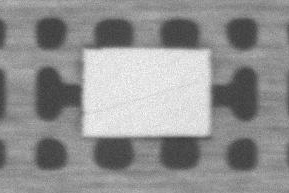DIE_CRACK: (130, 54, 289, 76)
